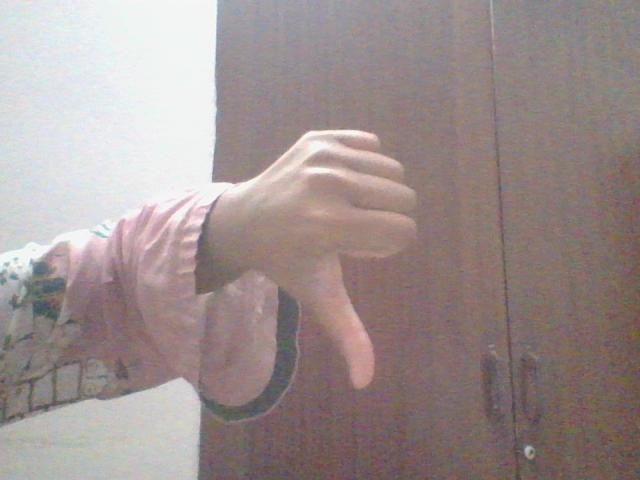thumbs-down: (266, 131, 432, 397)
